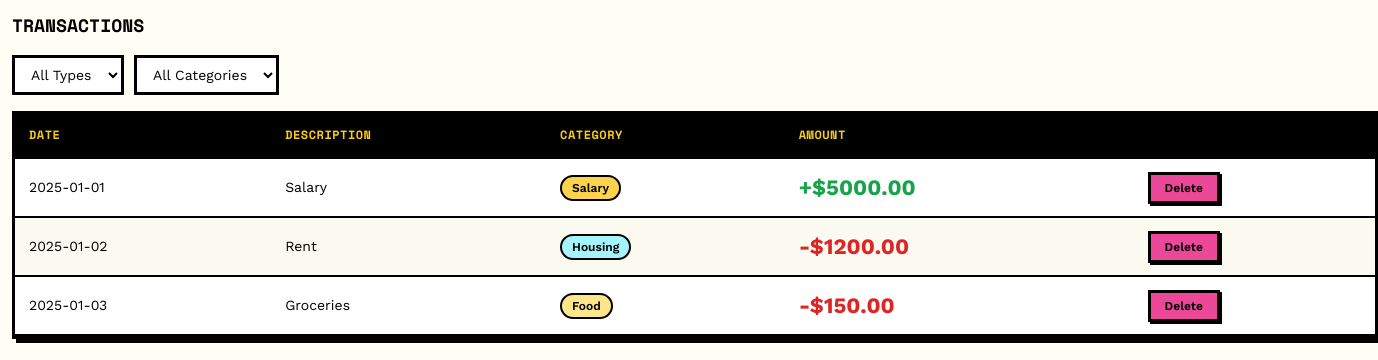
TransactionList › filters by type
Select "Expense" in the 1st dropdown showing "All Types" at {"x": 68, "y": 75}, box [12, 55, 124, 95]
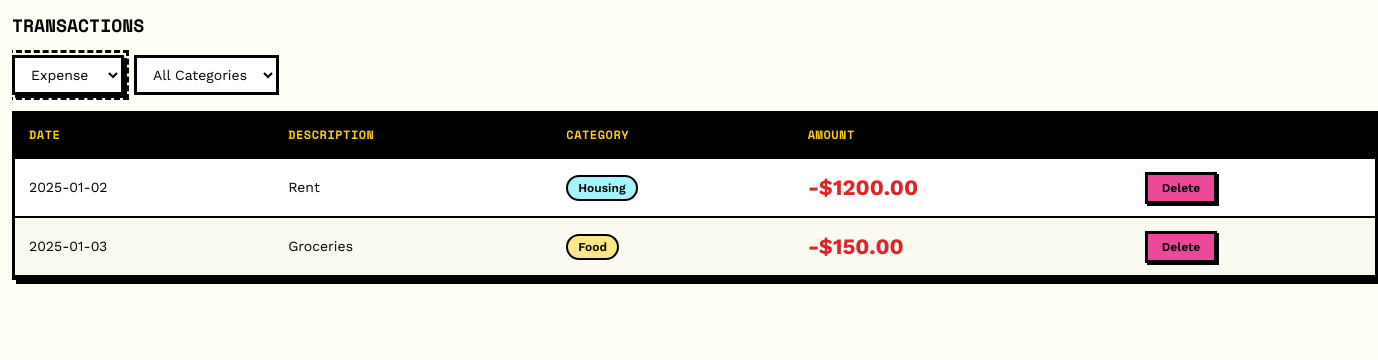
Expected: the text "Rent" is shown, [274, 159, 552, 218]
Expected: the text "Salary" is gone
